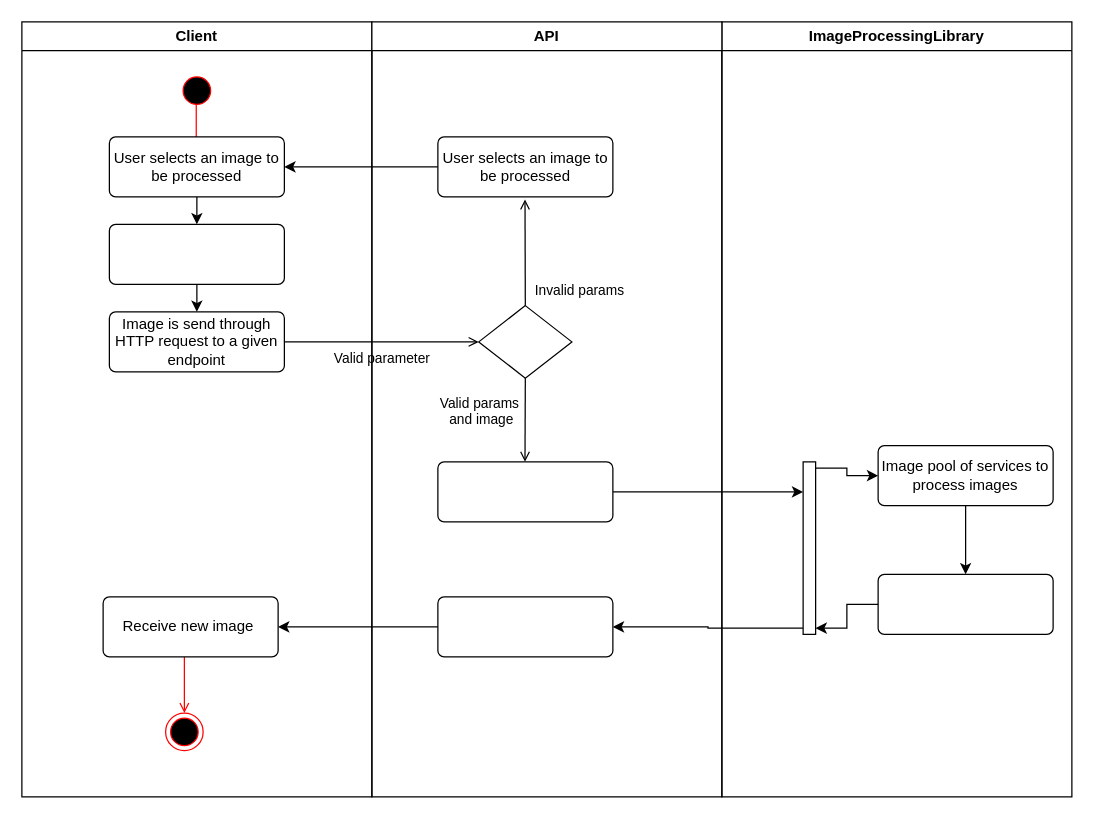
This 1094x819 diagram has some shape labels left out. The shapes that lost their labels are listed below. From the top down, each one's centre as x and y in pixels, then its label:
(196,253): A json is build with image and params
(525,491): Match a spefic view and endpoint
(965,603): New processed image is generated
(525,626): Send response with processed image
